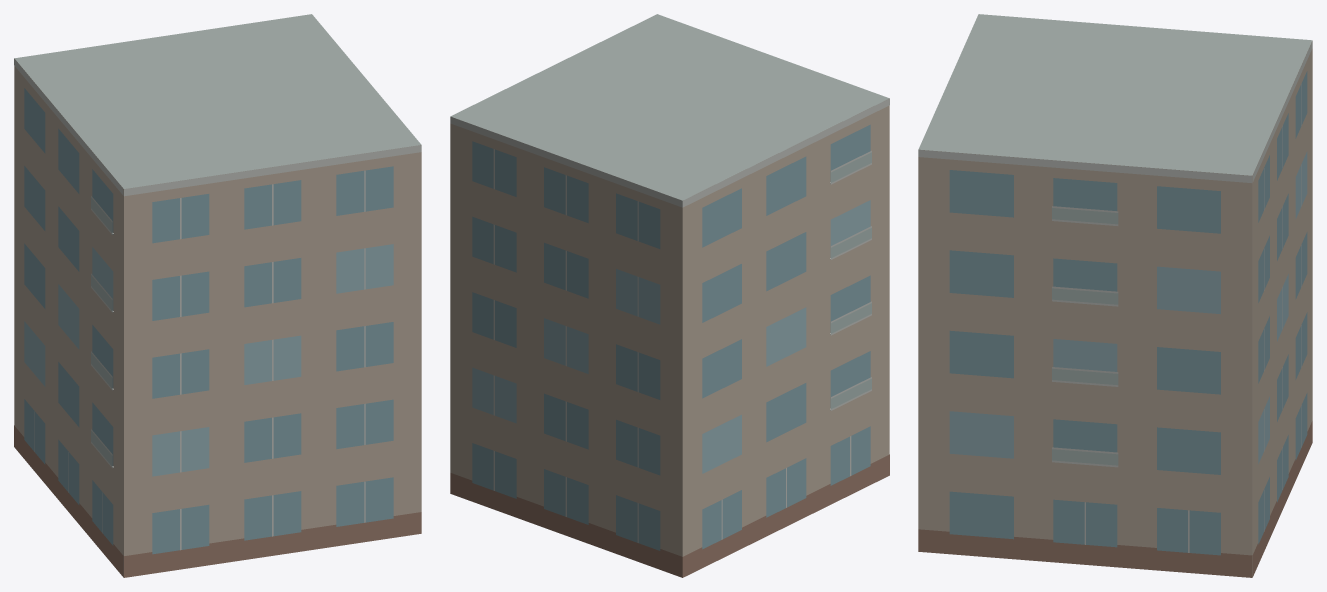
File: survey-upis-32536302.glb
3 renders of one model, left to right at view 1: azimuth 30°, elevation 25°; view 2: azimuth 150°, elevation 25°; view 3: azimuth 270°, elevation 25°, orthographic. The views are drawn at different scales.
Parts seen in each view (by area): view 1: survey-upis-32536302.tmp; view 2: survey-upis-32536302.tmp; view 3: survey-upis-32536302.tmp.
Part boxes in pixels (x1,y1,x2,y2): survey-upis-32536302.tmp: (14,14,421,577); survey-upis-32536302.tmp: (450,14,889,577); survey-upis-32536302.tmp: (918,14,1312,577).
Bounding box in the file's own units: 11.4 × 13.2 × 11.74.
